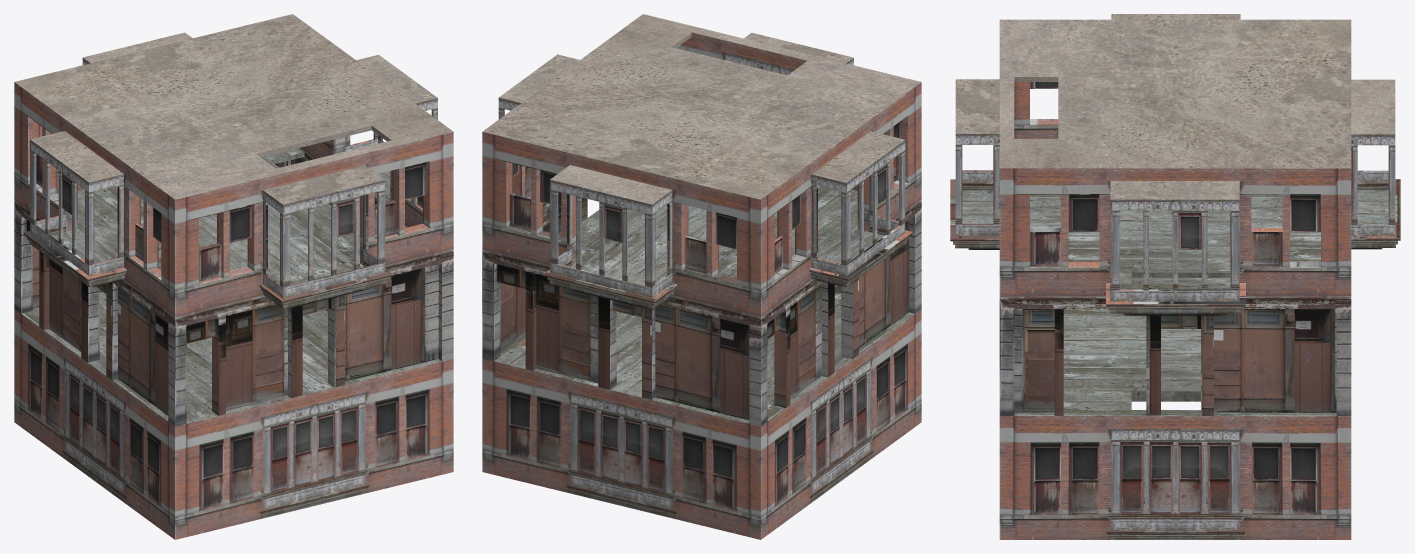
Rendered from BagBuilding7_140.fbx.
3 renders of one model, left to right at view 1: azimuth 30°, elevation 25°; view 2: azimuth 150°, elevation 25°; view 3: azimuth 270°, elevation 25°, orthographic. The views are drawn at different scales.
Visible parts, largest first — view 1: mainA140, roof140, floors140; view 2: mainA140, roof140, floors140; view 3: mainA140, roof140, floors140.
Boxes of the visible parts, x1,y1,x2,y2 form: mainA140: [14, 58, 453, 539]; roof140: [14, 14, 453, 204]; floors140: [21, 148, 441, 423]; mainA140: [482, 32, 921, 539]; roof140: [482, 14, 921, 204]; floors140: [494, 186, 914, 423]; mainA140: [950, 82, 1400, 539]; roof140: [955, 14, 1395, 199]; floors140: [962, 189, 1388, 415].
Size of the model in its own units: 24.4 by 22.22 by 24.4.
